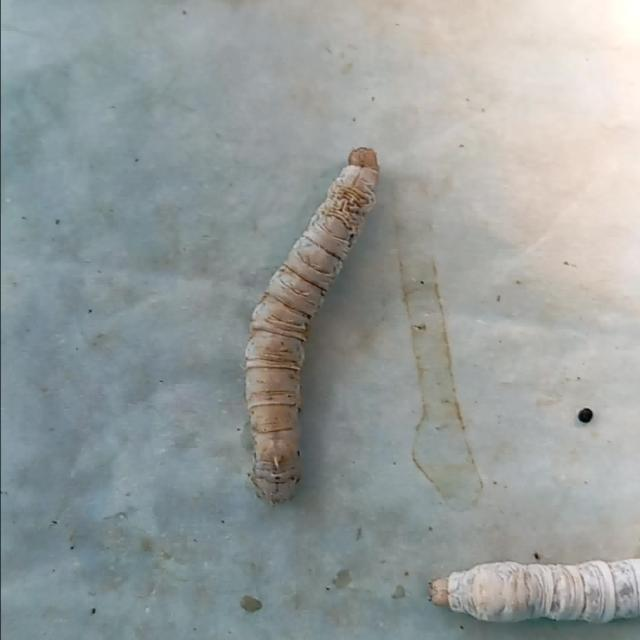Grasserie: (232, 135, 390, 508)
